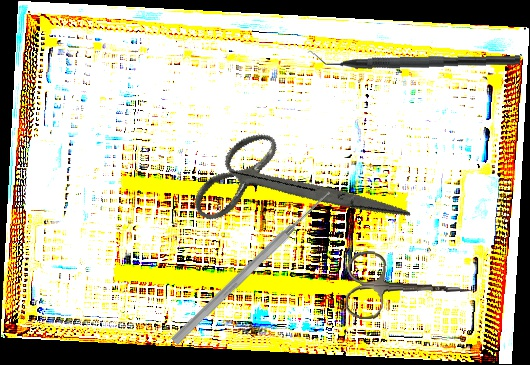Chopper: (306, 40, 523, 73)
Iris Scissors: (178, 90, 411, 290), (344, 249, 476, 327)
Pusher: (169, 186, 335, 348)
